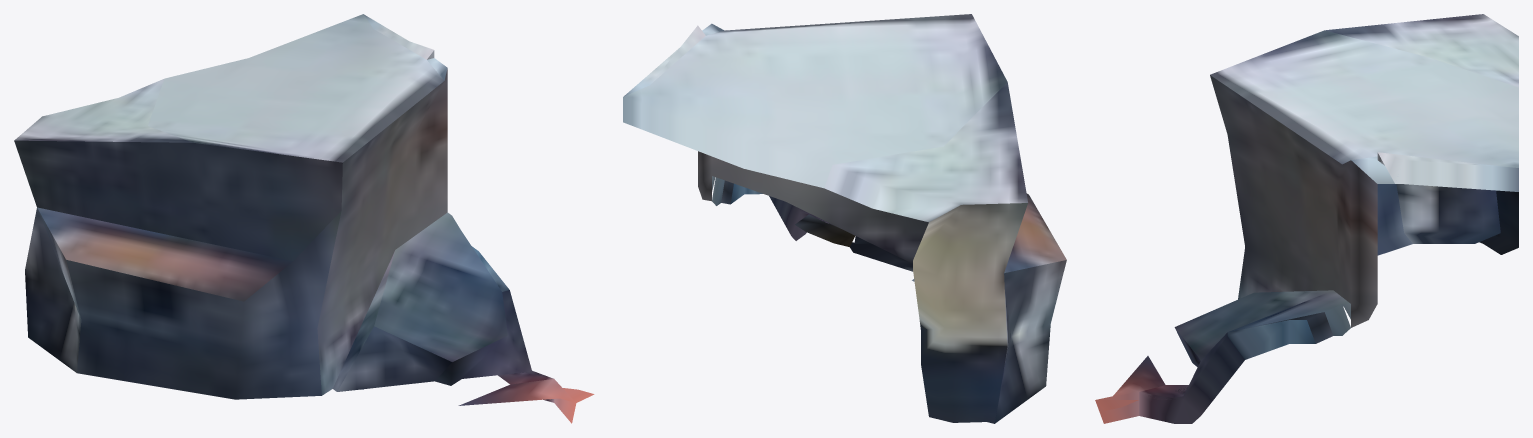
3 renders of one model, left to right at view 1: azimuth 30°, elevation 25°; view 2: azimuth 150°, elevation 25°; view 3: azimuth 270°, elevation 25°, orthographic. The views are drawn at different scales.
Visible parts, largest first — view 1: 30436272704361625616_0; view 2: 30436272704361625616_0; view 3: 30436272704361625616_0.
Boxes of the visible parts, bbox=[...] form: 30436272704361625616_0: bbox=[14, 14, 594, 423]; 30436272704361625616_0: bbox=[623, 14, 1066, 423]; 30436272704361625616_0: bbox=[1095, 14, 1518, 423].
Bounding box in the file's own units: 7.82 × 5.24 × 7.4.
1 material, 1 textured.
